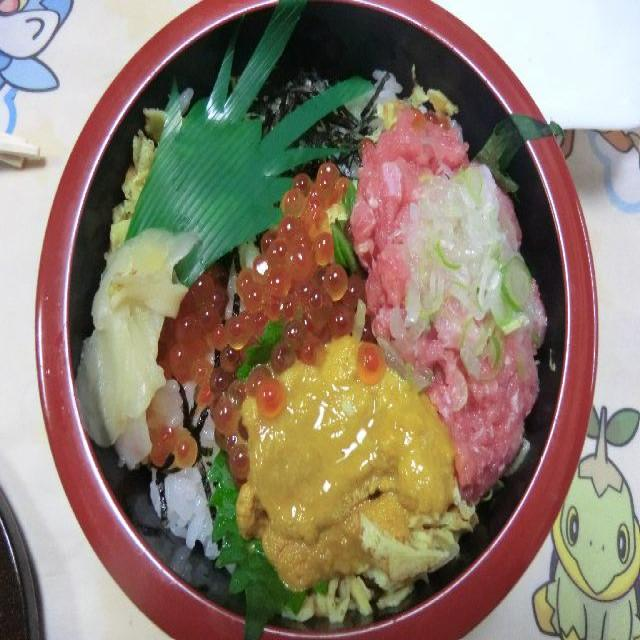刺身生食: (30, 0, 610, 640)
